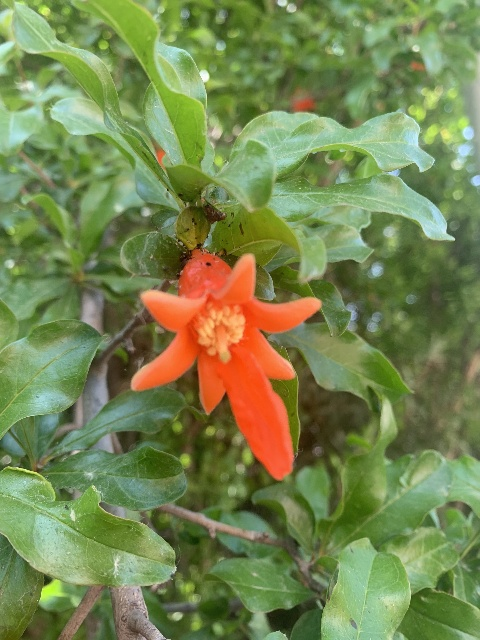flower: (130, 249, 323, 479)
